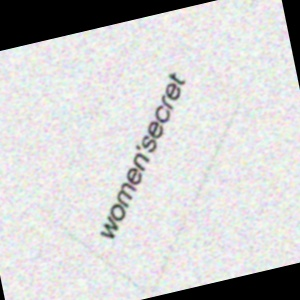women_secret: (83, 22, 296, 120)
